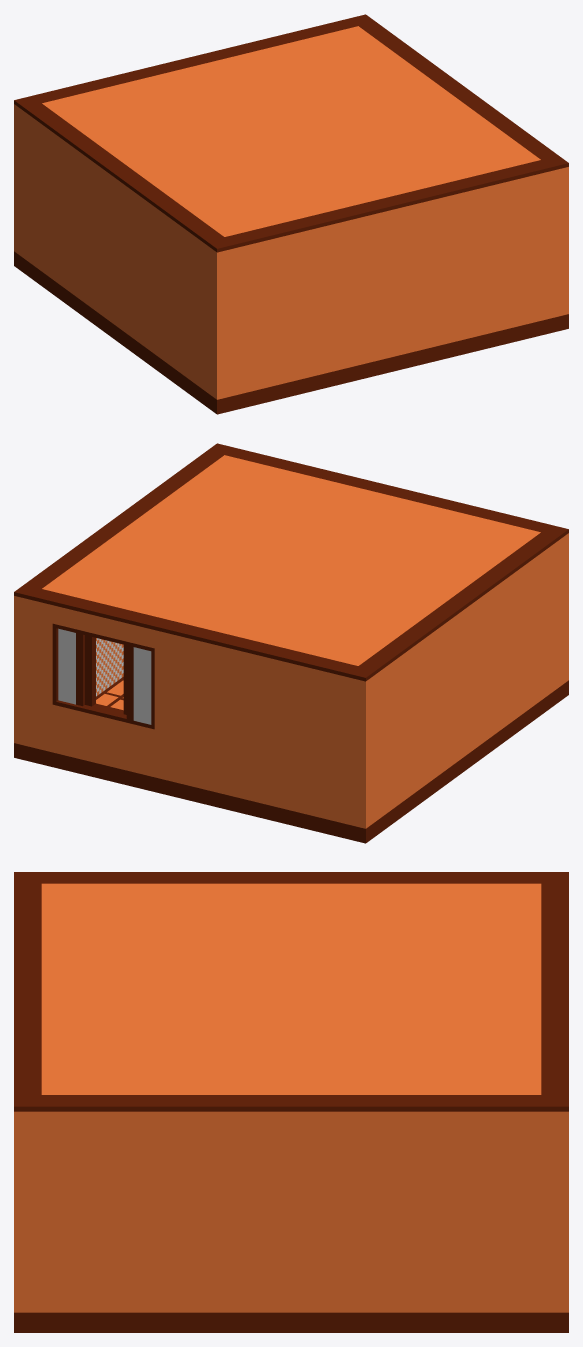
Rendered from room.obj.
3 renders of one model, top to bottom at view 1: azimuth 30°, elevation 25°; view 2: azimuth 150°, elevation 25°; view 3: azimuth 270°, elevation 25°, orthographic. The views are drawn at different scales.
Size of the model in its own units: 100 by 45 by 100.
Materials: 1 (1 with a texture image).
